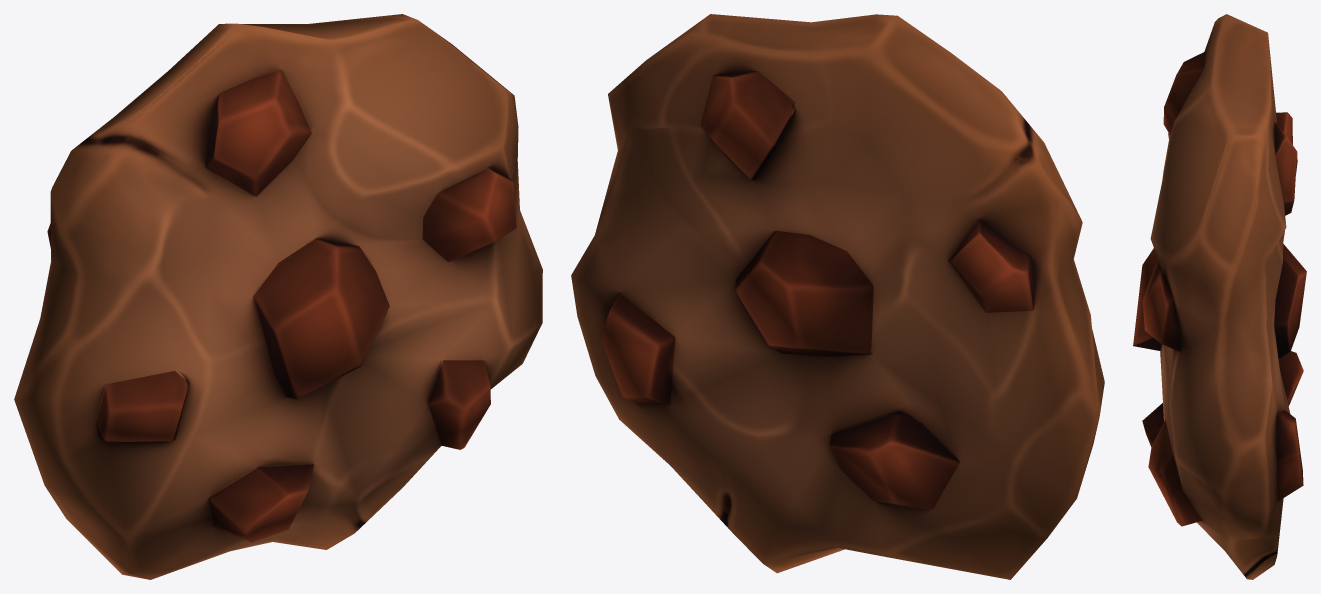
3 renders of one model, left to right at view 1: azimuth 30°, elevation 25°; view 2: azimuth 150°, elevation 25°; view 3: azimuth 270°, elevation 25°, orthographic. The views are drawn at different scales.
Parts seen in each view (by area): view 1: cookie_01; view 2: cookie_01; view 3: cookie_01.
Boxes of the visible parts, box(x1,y1,x2,y2) form: cookie_01: box(14, 14, 542, 579); cookie_01: box(571, 14, 1104, 579); cookie_01: box(1133, 14, 1306, 579).
Bounding box in the file's own units: 0.4602 × 0.4737 × 0.1438.
Materials: 1 (1 with a texture image).
